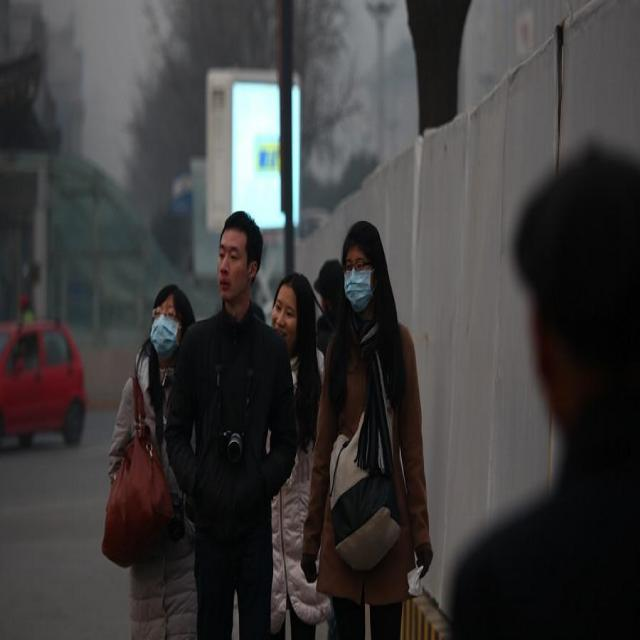mask: (344, 248, 373, 308), (150, 308, 180, 358)
nomask: (213, 233, 250, 297), (270, 288, 303, 345)
